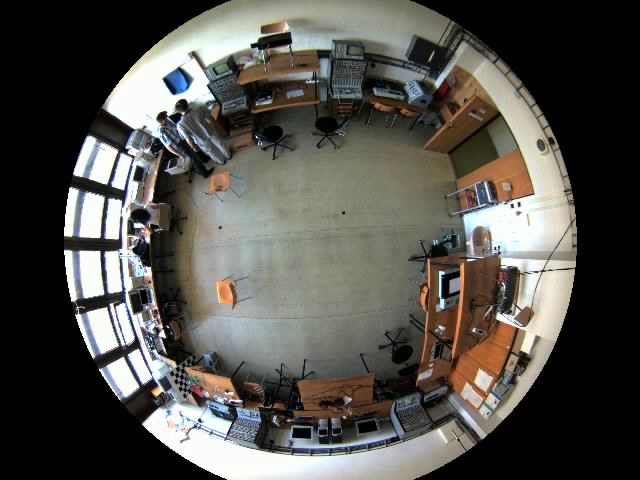person: (164, 98, 237, 167), (150, 111, 217, 177)
